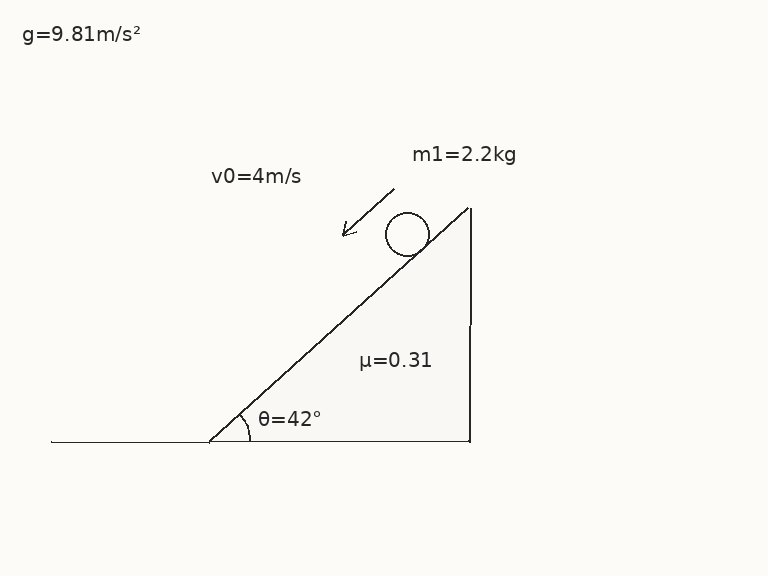ball: (383, 210, 431, 258)
ramp: (208, 206, 471, 443)
